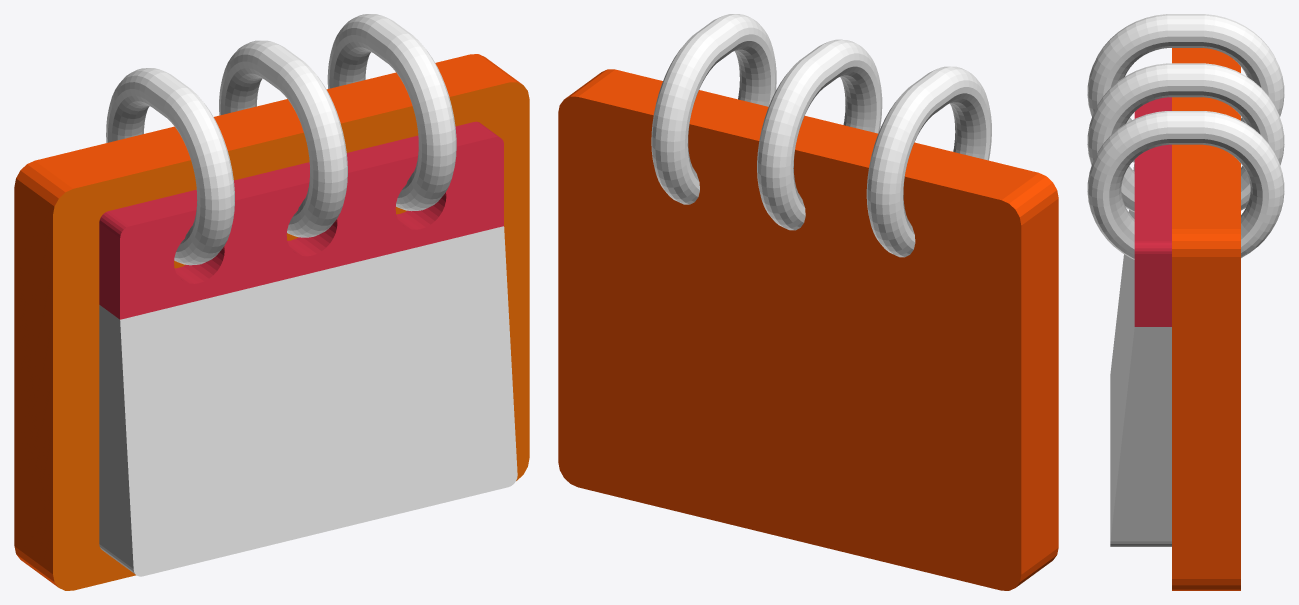
The model's file is calendar.fbx.
The picture shows the model from 3 angles, left to right: view 1: azimuth 30°, elevation 25°; view 2: azimuth 150°, elevation 25°; view 3: azimuth 270°, elevation 25°; orthographic projection. The views are drawn at different scales.
Parts seen in each view (by area): view 1: Cube; view 2: Cube; view 3: Cube.
Boxes of the visible parts, x1=… form: Cube: x1=14, y1=14, x2=529, y2=590; Cube: x1=558, y1=14, x2=1058, y2=590; Cube: x1=1087, y1=14, x2=1284, y2=590.
Size of the model in its own units: 248 by 238 by 99.24.
